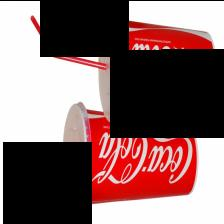red: (9, 101, 198, 210), (123, 19, 216, 115)
